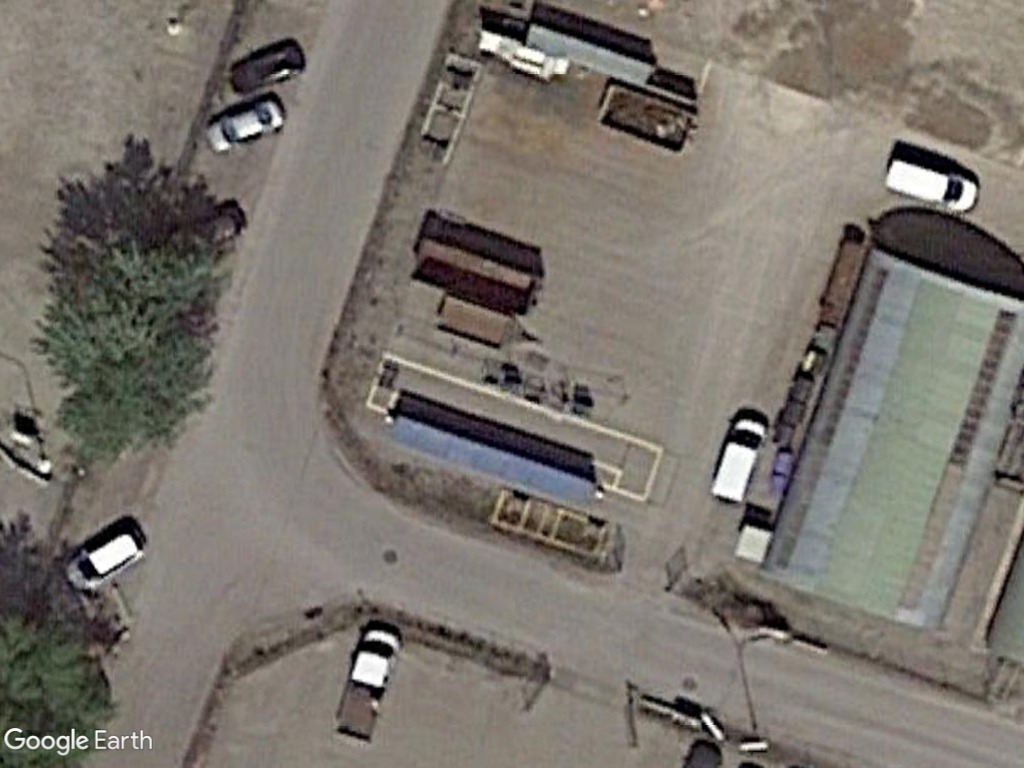car: (63, 523, 150, 592), (206, 95, 290, 153)
others: (330, 625, 402, 741)
van: (879, 150, 982, 220), (706, 411, 769, 509)
